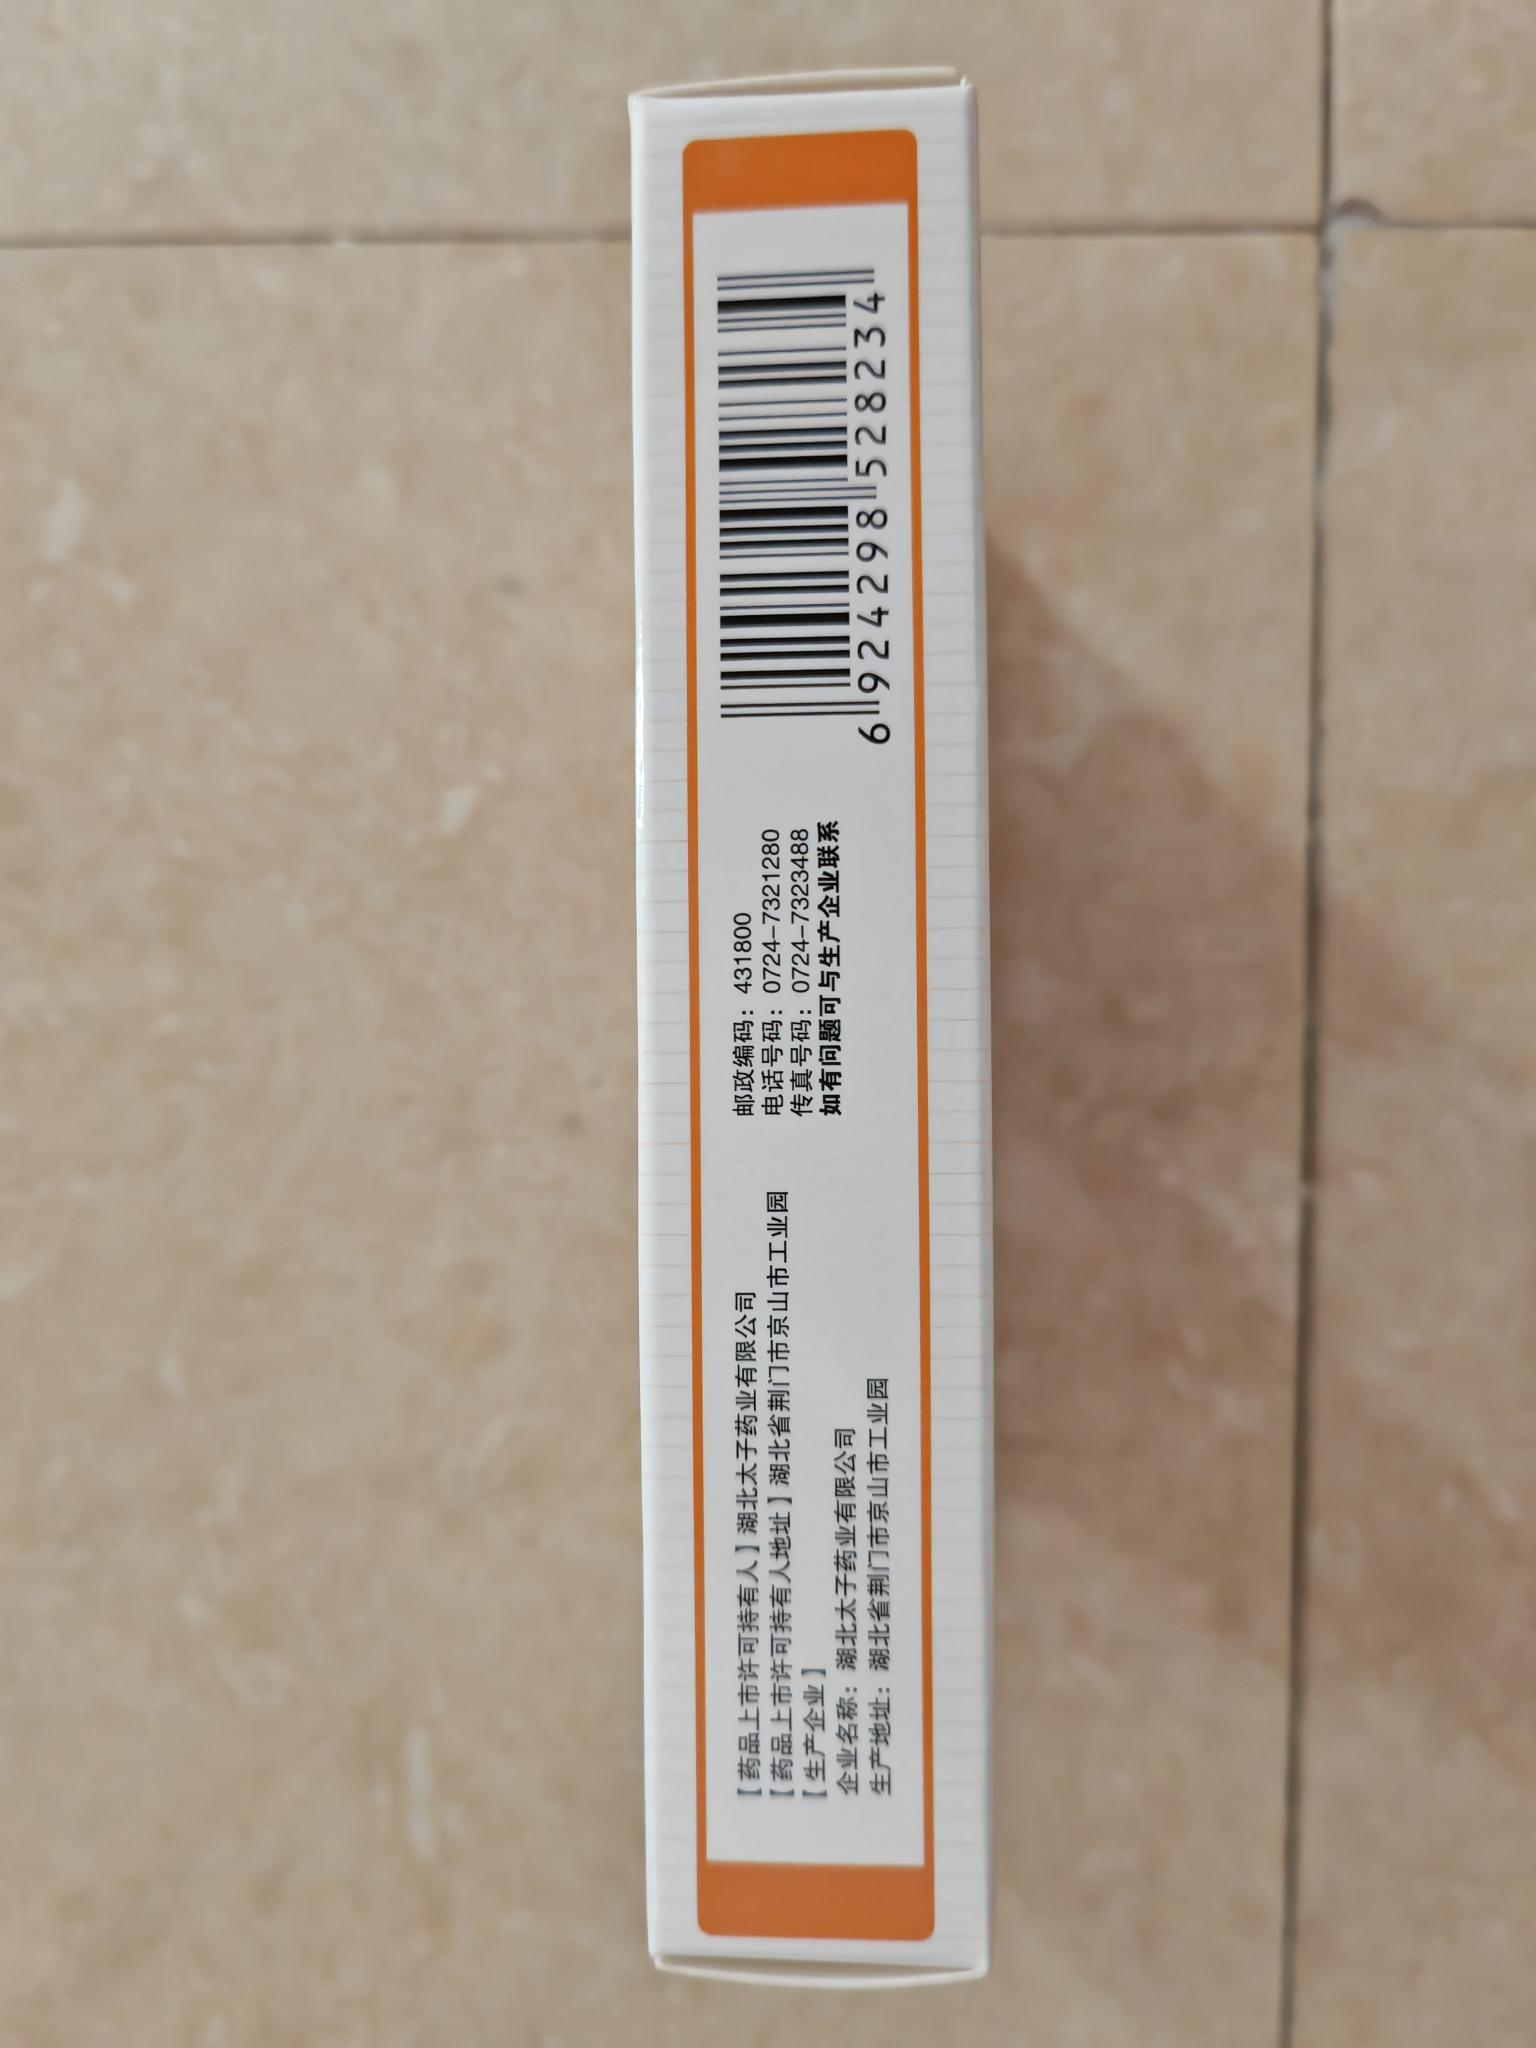Medicine5: (35, 581, 1536, 1055)
